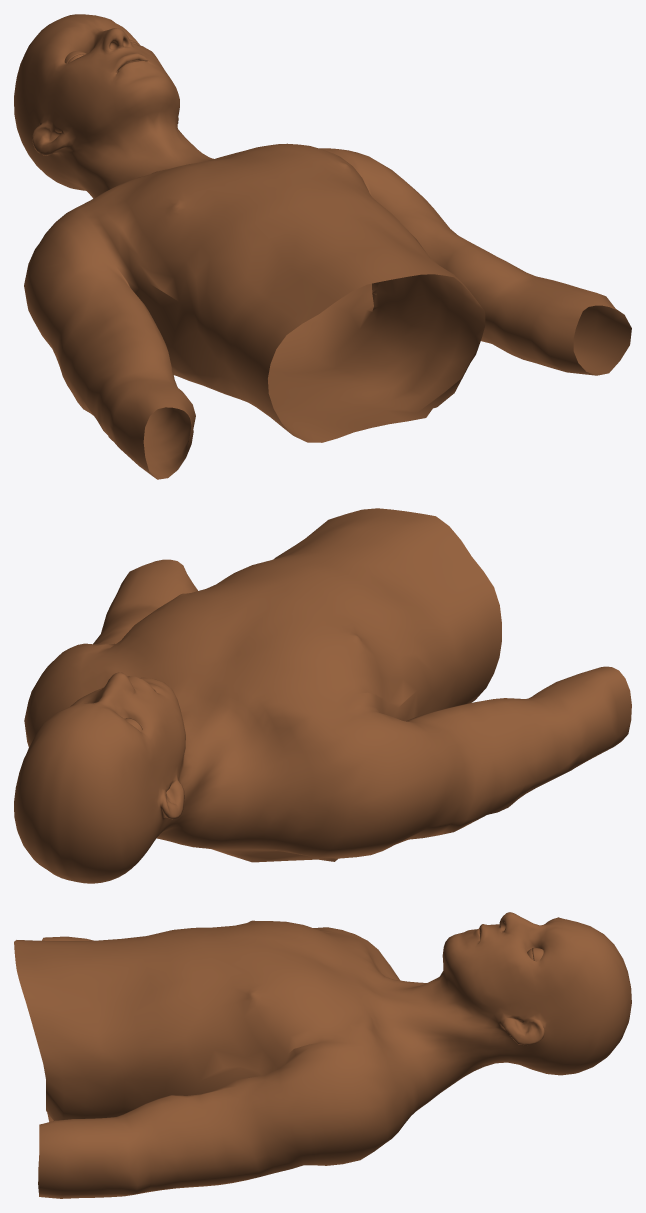
File: boca_mas_cerrada_ojos_abiertos.fbx
3 renders of one model, top to bottom at view 1: azimuth 30°, elevation 25°; view 2: azimuth 150°, elevation 25°; view 3: azimuth 270°, elevation 25°, orthographic. The views are drawn at different scales.
Visible parts, largest first — view 1: Body_L; view 2: Body_L; view 3: Body_L.
Boxes of the visible parts, left/top/right/bottom form: Body_L: left=14, top=14, right=631, bottom=479; Body_L: left=14, top=508, right=631, bottom=883; Body_L: left=14, top=912, right=631, bottom=1198.
Bounding box in the file's own units: 6474 × 3021 × 7922.
